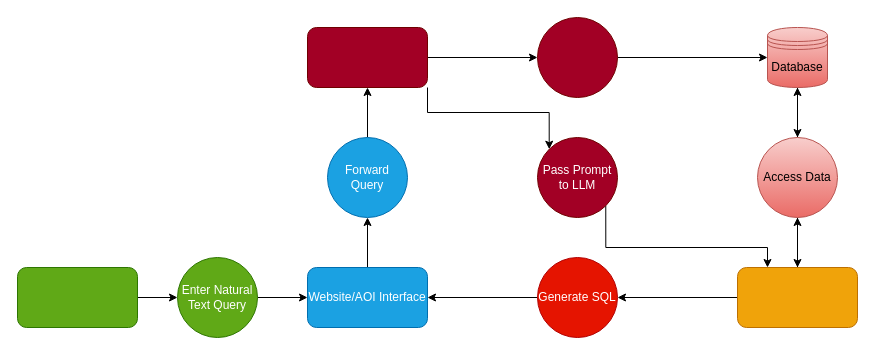
Image size: 875x355. Some labels were removed from this diagram. Each missing label, with the box of its shape:
Access and Save Data: (536, 16, 618, 98)
Backend: (306, 26, 428, 88)
External User: (16, 266, 138, 328)
Large Language Model: (736, 266, 858, 328)
